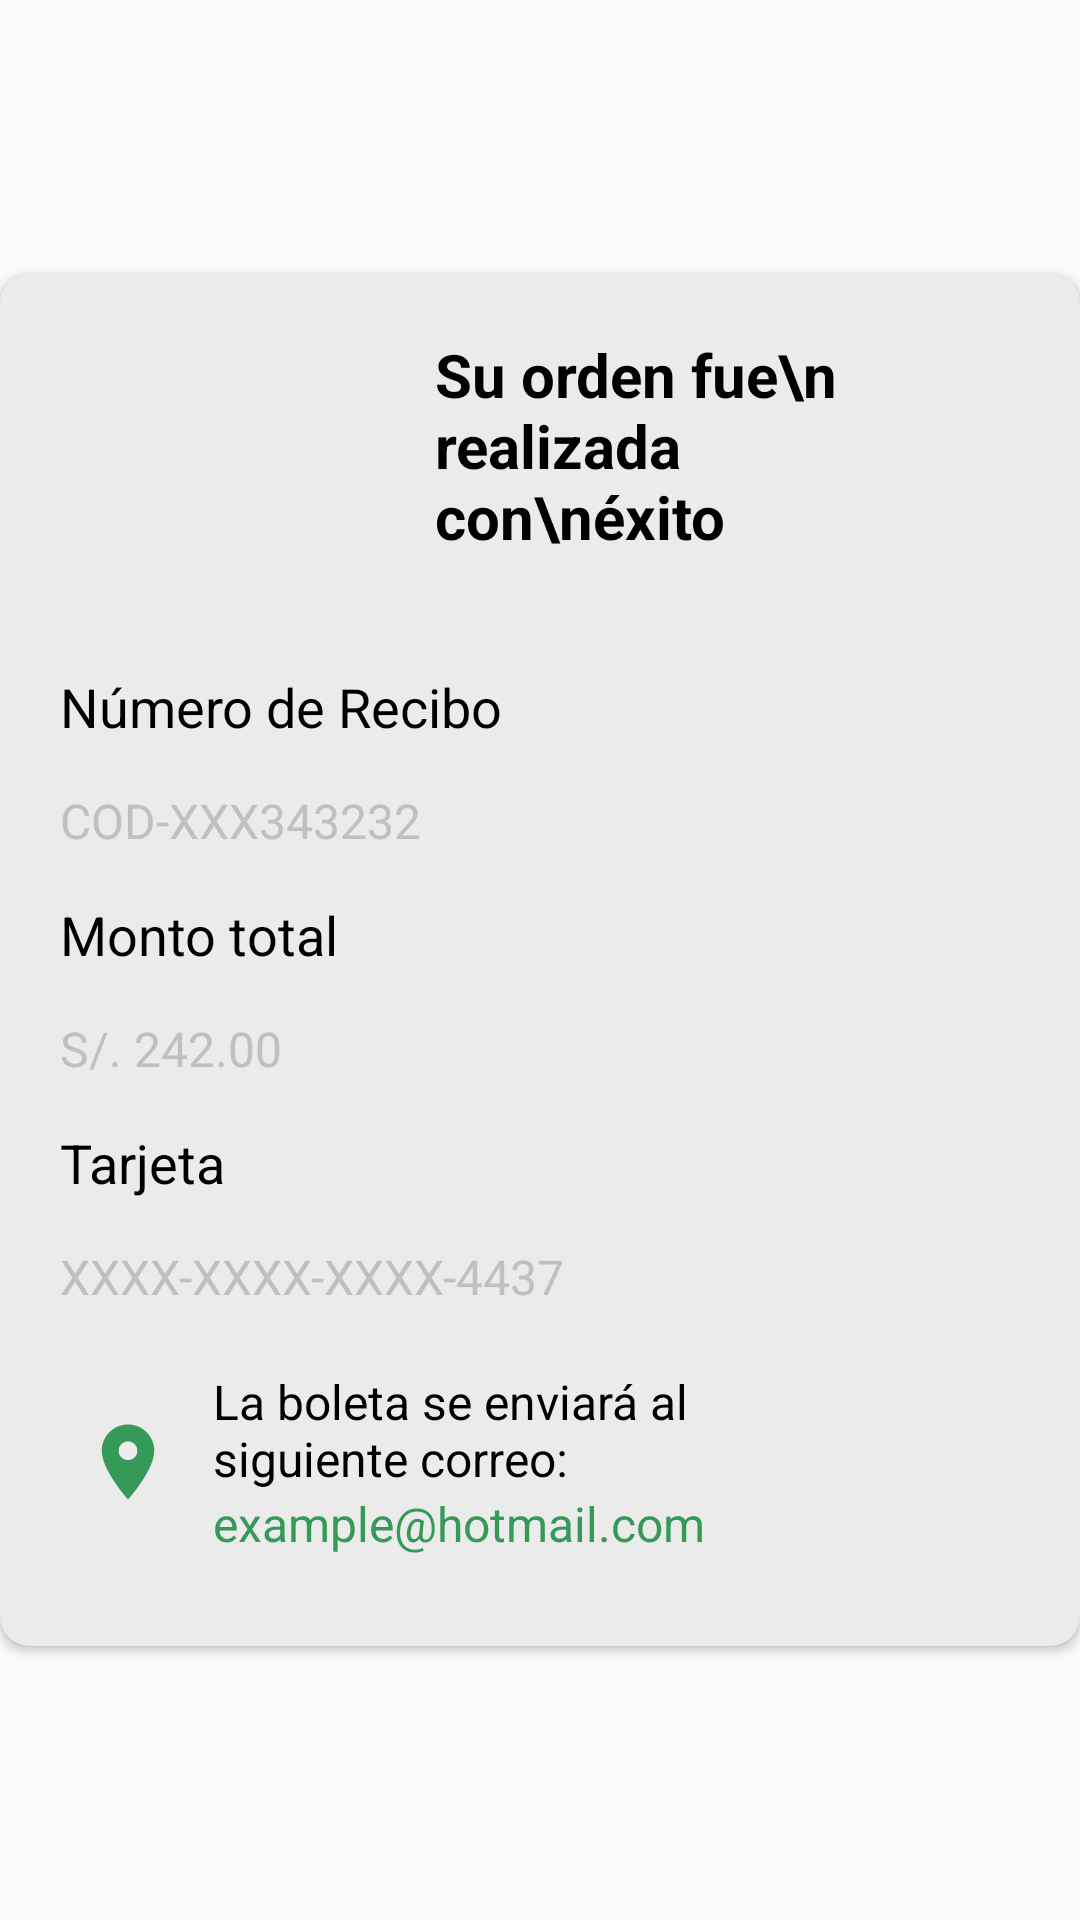

Named icons in this screenshot (1080*1920) and their bounding boxes, (x1, y1, x2, y2):
ubicacion: (101, 1424, 155, 1499)
